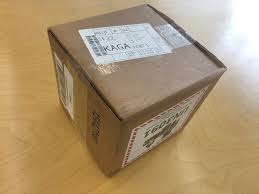undamaged: (48, 1, 228, 178)
